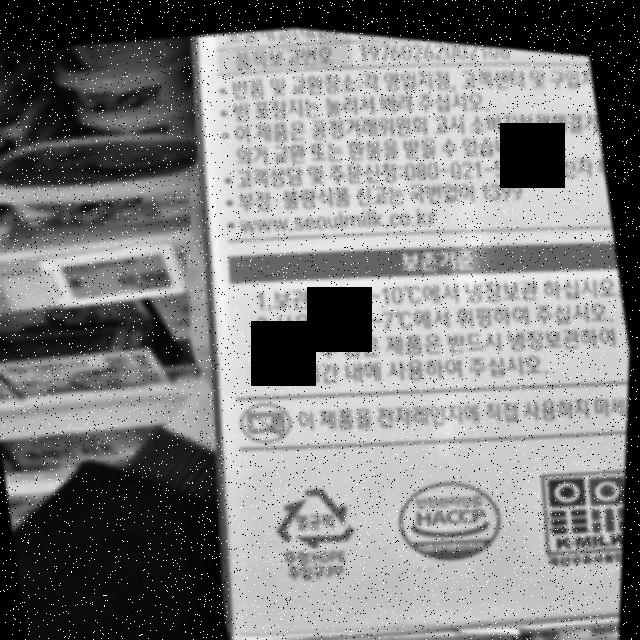SterilizedPack: (269, 469, 363, 552)
